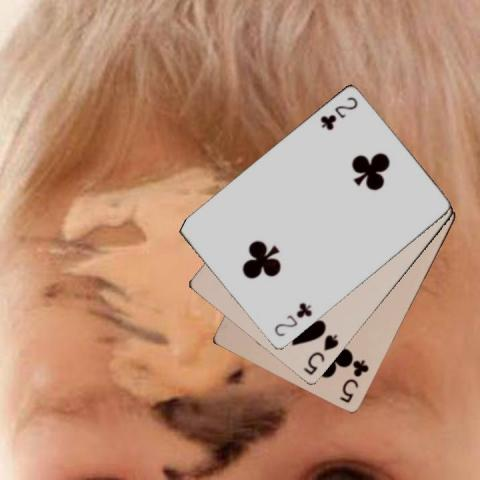2c: (271, 300, 314, 339), (318, 94, 360, 133)
5c: (336, 357, 370, 405)
5s: (300, 331, 341, 377)
